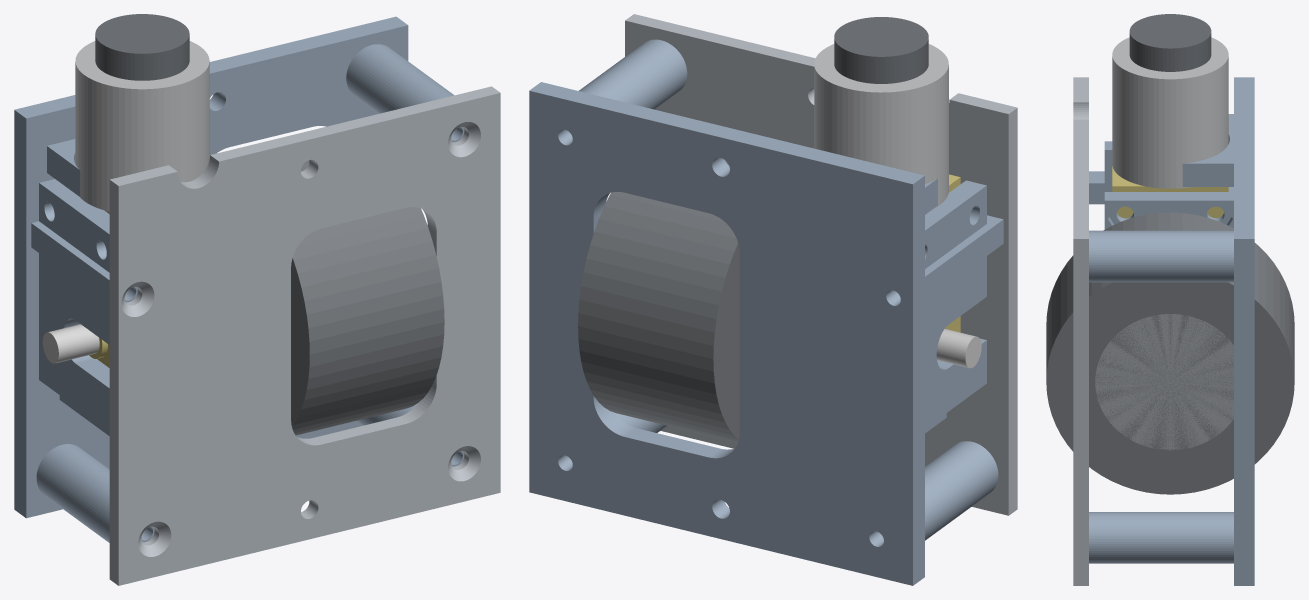
The model's file is soporte_tt_mecanum_ensamble.glb.
The picture shows the model from 3 angles, left to right: view 1: azimuth 30°, elevation 25°; view 2: azimuth 150°, elevation 25°; view 3: azimuth 270°, elevation 25°; orthographic projection. The views are drawn at different scales.
Visible parts, largest first — view 1: geometry_0; view 2: geometry_0; view 3: geometry_0.
Boxes of the visible parts, x1=… form: geometry_0: x1=14, y1=14, x2=500, y2=585; geometry_0: x1=529, y1=14, x2=1017, y2=585; geometry_0: x1=1046, y1=14, x2=1294, y2=585.
Bounding box in the file's own units: 76.3 × 91 × 48.
